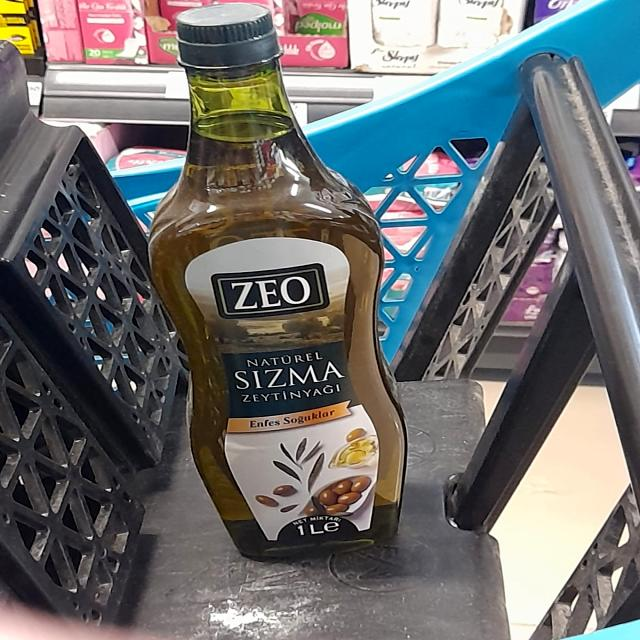olive oil: (155, 135, 425, 559)
